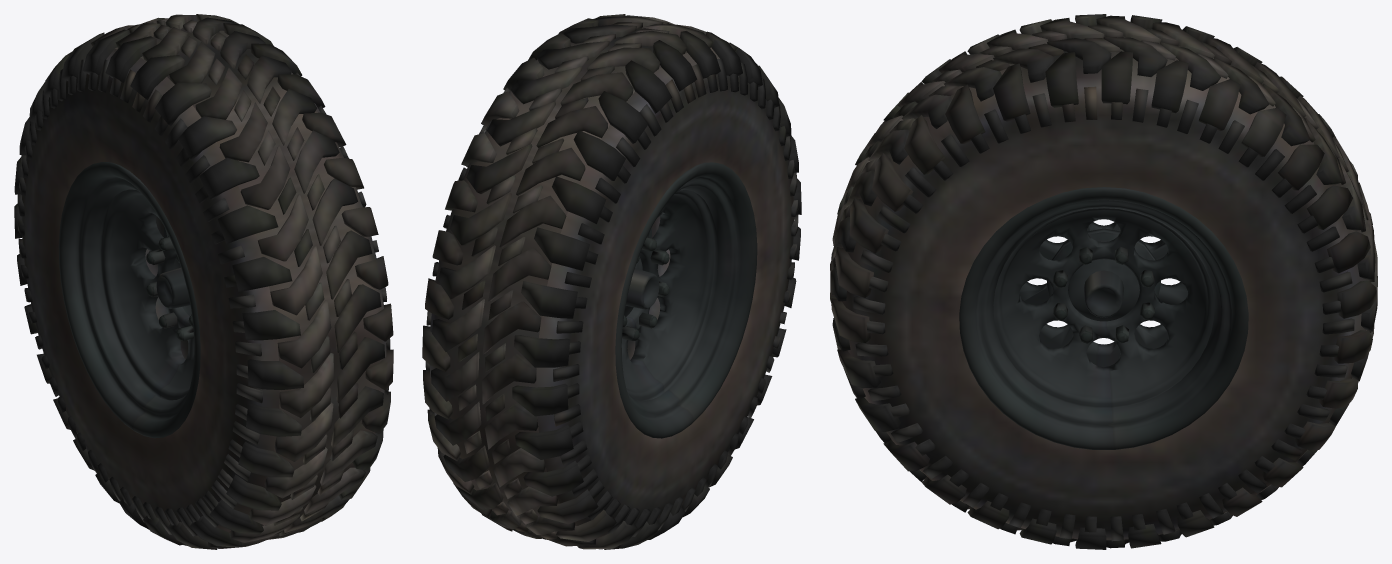
The model's file is FAV_wheel.obj.
3 views of the same model, side by side, from view 1: azimuth 30°, elevation 25°; view 2: azimuth 150°, elevation 25°; view 3: azimuth 270°, elevation 25° (orthographic). The views are drawn at different scales.
Visible parts, largest first — view 1: fav_316958.Shape_fav_316958.003; view 2: fav_316958.Shape_fav_316958.003; view 3: fav_316958.Shape_fav_316958.003.
Boxes of the visible parts, bbox=[...] form: fav_316958.Shape_fav_316958.003: bbox=[14, 14, 393, 549]; fav_316958.Shape_fav_316958.003: bbox=[422, 14, 801, 549]; fav_316958.Shape_fav_316958.003: bbox=[830, 14, 1377, 549].
Bounding box in the file's own units: 0.6736 × 2 × 2.
Materials: 5 (5 with a texture image).
